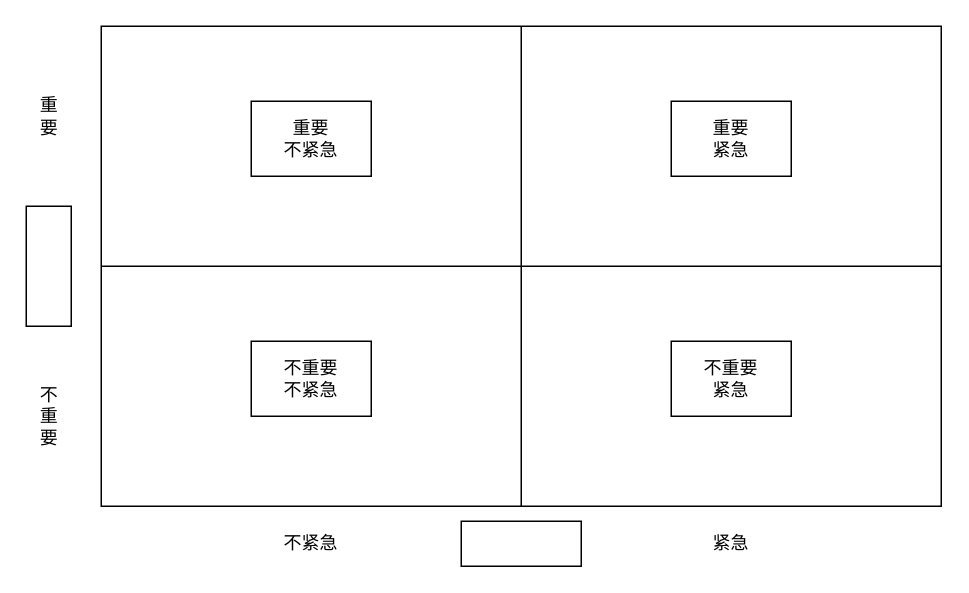
The diagram is 969 pixels wide and 593 high, and some of its shapes have lost their labels. Here are the shapes that lost their labels. From the top down, the centre of each, then its label:
point (48, 265): 重 要 性
point (520, 543): 紧急性
